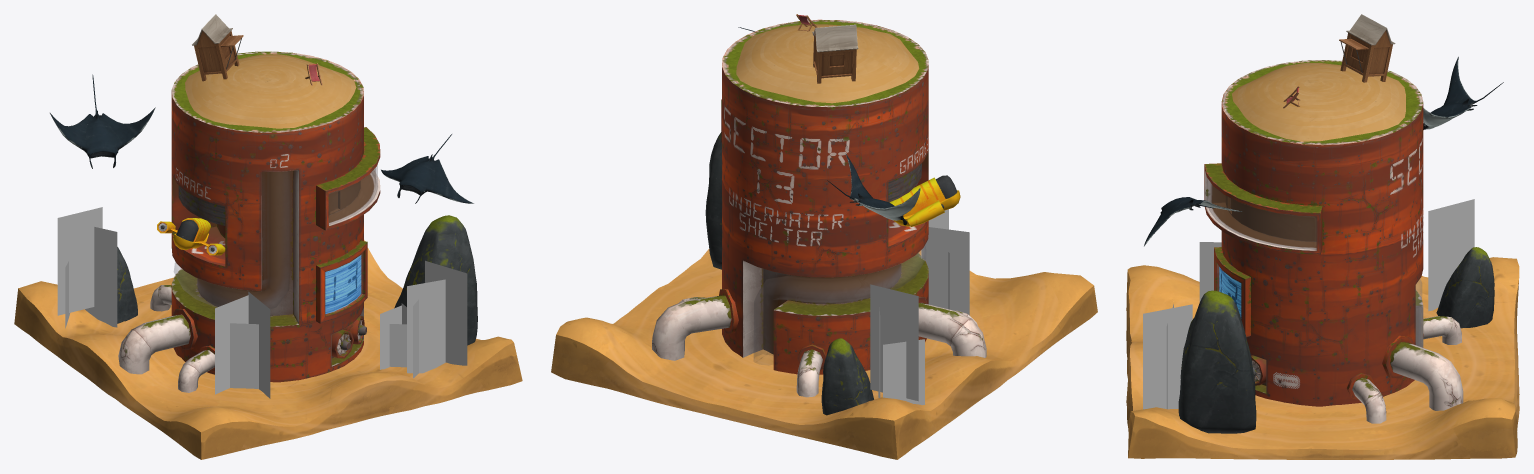
The picture shows the model from 3 angles, left to right: view 1: azimuth 30°, elevation 25°; view 2: azimuth 150°, elevation 25°; view 3: azimuth 270°, elevation 25°; orthographic projection. The views are drawn at different scales.
Visible parts, largest first — view 1: Circle, Cube_001.001, Circle.006, Plane, Plane.001, Plane.004, PM3D_Cube3D1.001, Rausku_mesh.004, Rausku_mesh.002, Plane.005, Circle.001, PM3D_Cube3D1.004; view 2: Circle, Cube_001.001, Circle.006, Plane, Plane.004, PM3D_Cube3D1.004, Circle.001, PM3D_Cube3D1.001, Rausku_mesh.004; view 3: Circle, Cube_001.001, Circle.006, PM3D_Cube3D1.001, Plane.001, Plane, PM3D_Cube3D1.004, Rausku_mesh.004, Rausku_mesh.002, Plane.004.
Part boxes in pixels (x1=…): Circle: x1=118, y1=51, x2=380, y2=392; Cube_001.001: x1=14, y1=240, x2=522, y2=459; Circle.006: x1=185, y1=14, x2=356, y2=128; Plane: x1=57, y1=207, x2=117, y2=328; Plane.001: x1=407, y1=260, x2=467, y2=378; Plane.004: x1=215, y1=291, x2=270, y2=398; PM3D_Cube3D1.001: x1=394, y1=215, x2=477, y2=345; Rausku_mesh.004: x1=50, y1=74, x2=155, y2=168; Rausku_mesh.002: x1=381, y1=134, x2=473, y2=203; Plane.005: x1=380, y1=303, x2=406, y2=369; Circle.001: x1=157, y1=218, x2=225, y2=255; PM3D_Cube3D1.004: x1=117, y1=247, x2=137, y2=323; Circle: x1=652, y1=19, x2=986, y2=397; Cube_001.001: x1=551, y1=249, x2=1097, y2=459; Circle.006: x1=736, y1=14, x2=919, y2=103; Plane: x1=870, y1=284, x2=924, y2=405; Plane.004: x1=921, y1=209, x2=969, y2=315; PM3D_Cube3D1.004: x1=821, y1=338, x2=873, y2=415; Circle.001: x1=889, y1=175, x2=960, y2=226; PM3D_Cube3D1.001: x1=705, y1=132, x2=721, y2=269; Rausku_mesh.004: x1=827, y1=153, x2=920, y2=225; Circle: x1=1204, y1=60, x2=1463, y2=423; Cube_001.001: x1=1126, y1=257, x2=1519, y2=459; Circle.006: x1=1232, y1=14, x2=1405, y2=141; PM3D_Cube3D1.001: x1=1178, y1=290, x2=1256, y2=433; Plane.001: x1=1143, y1=304, x2=1192, y2=409; Plane: x1=1428, y1=199, x2=1474, y2=311; PM3D_Cube3D1.004: x1=1436, y1=247, x2=1494, y2=328; Rausku_mesh.004: x1=1423, y1=56, x2=1503, y2=129; Rausku_mesh.002: x1=1144, y1=197, x2=1242, y2=246; Plane.004: x1=1199, y1=242, x2=1221, y2=301.
Size of what is drawn, in the model's own units: 2549 by 2439 by 2555.
